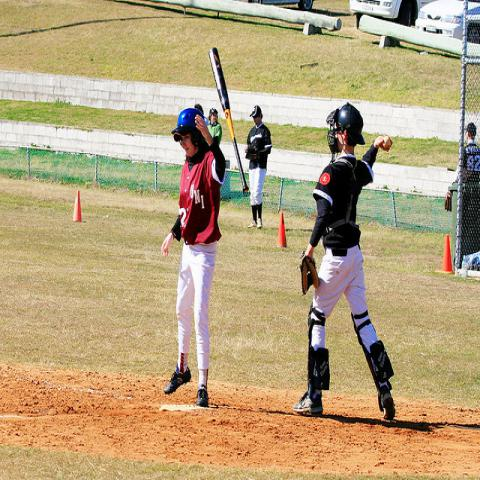car: (416, 0, 480, 45), (349, 0, 436, 29), (244, 0, 316, 9)
